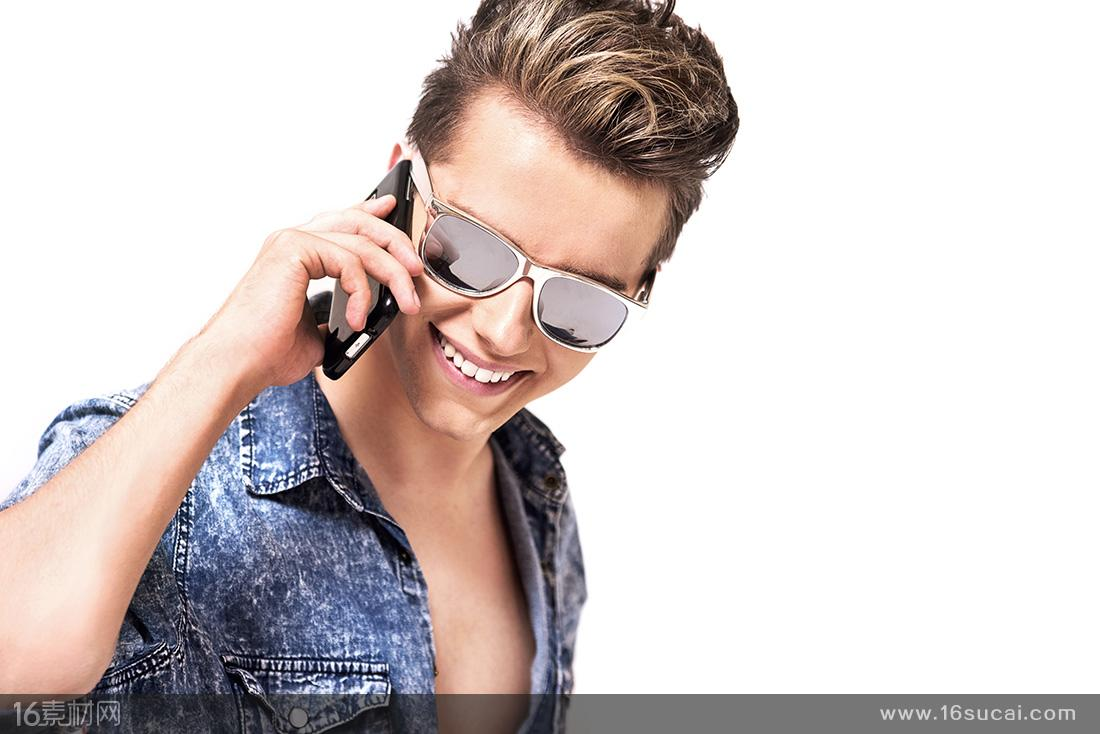person: (258, 13, 742, 560)
